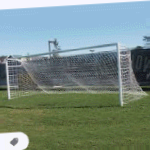goals: (4, 41, 150, 109)
